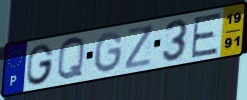3: (160, 18, 191, 63)
E: (189, 11, 224, 60)
G: (93, 30, 125, 75), (25, 42, 56, 87)
Q: (56, 36, 87, 83)
Z: (124, 23, 154, 71)
